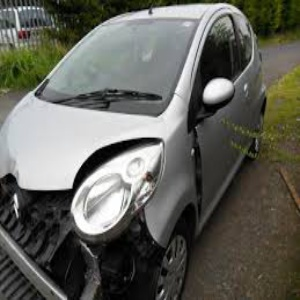head_lights: (64, 139, 166, 245)
